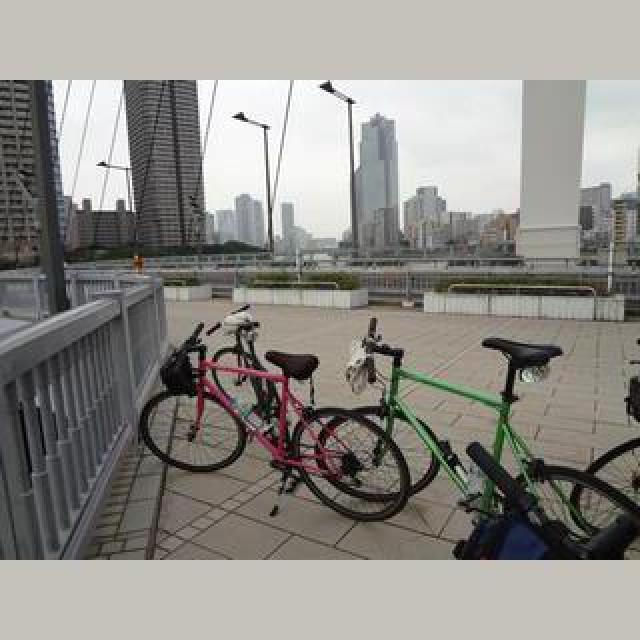Person: (328, 323, 640, 555), (141, 304, 411, 522)
